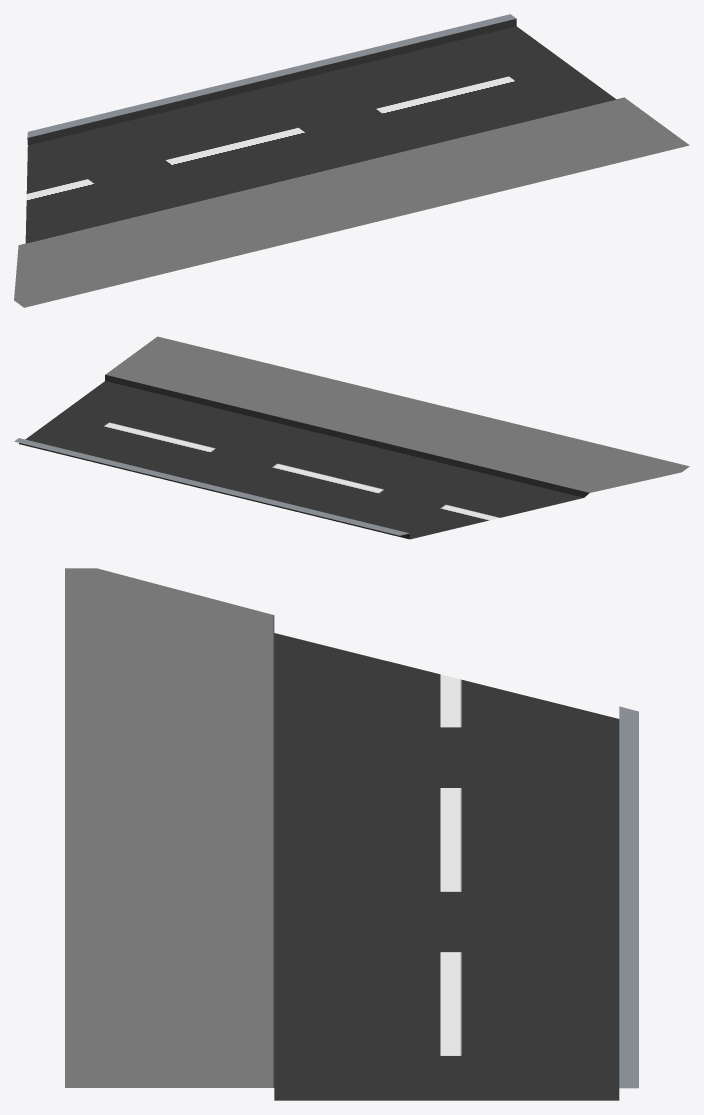
File: supermarketRoad.fbx
3 renders of one model, top to bottom at view 1: azimuth 30°, elevation 25°; view 2: azimuth 150°, elevation 25°; view 3: azimuth 270°, elevation 25°, orthographic. The views are drawn at different scales.
Visible parts, largest first — view 1: Plane; view 2: Plane; view 3: Plane.
Boxes of the visible parts, x1,y1,x2,y2 form: Plane: [14, 14, 689, 307]; Plane: [14, 336, 689, 539]; Plane: [65, 568, 638, 1100].
Bounding box in the file's own units: 696 × 7.72 × 325.
